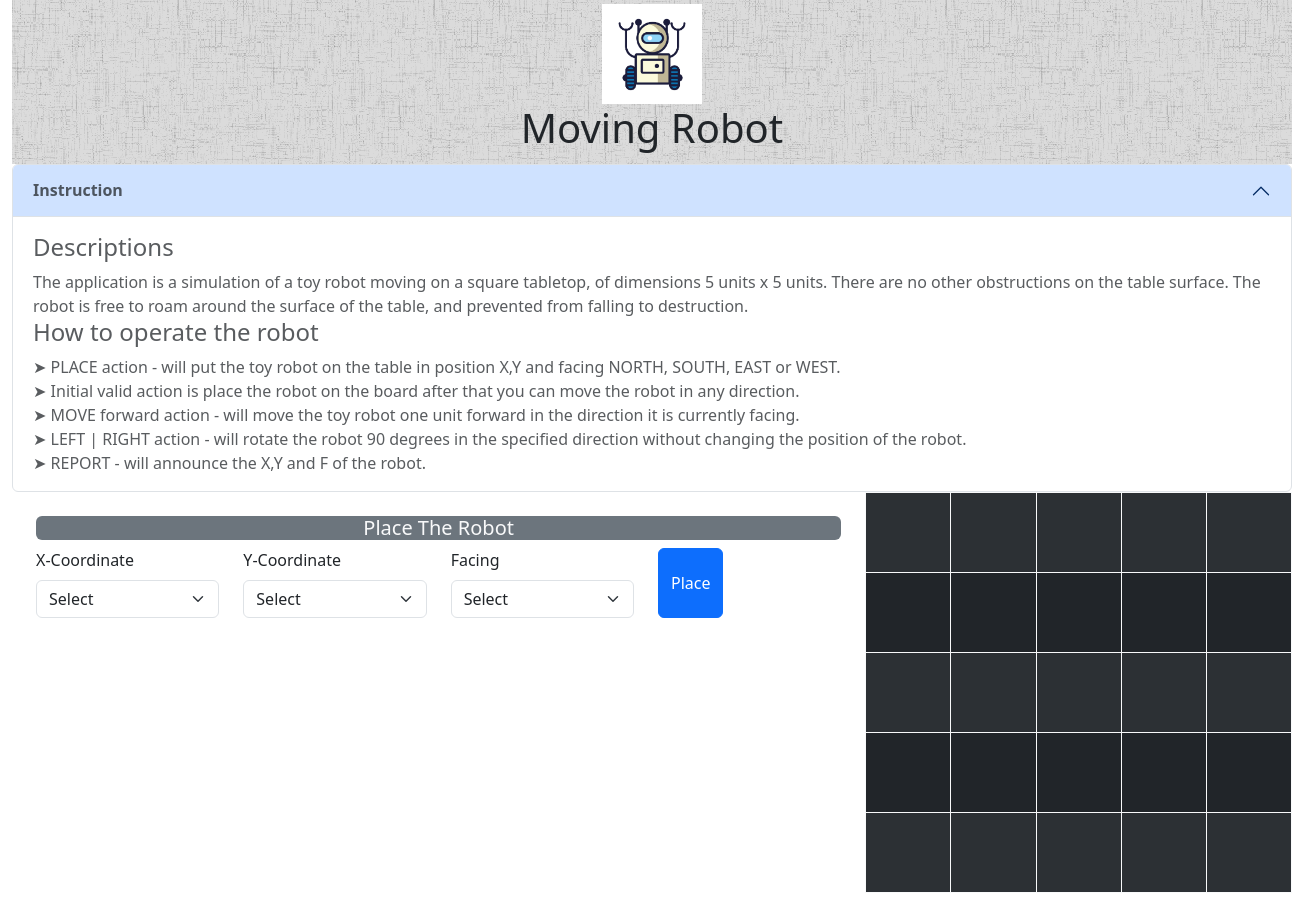
Test: robot get placed at position (2,2) NORTH by Place button
Select "2" in the dropdown with test id "xCoord" at x=128, y=599, box [36,580,219,618]
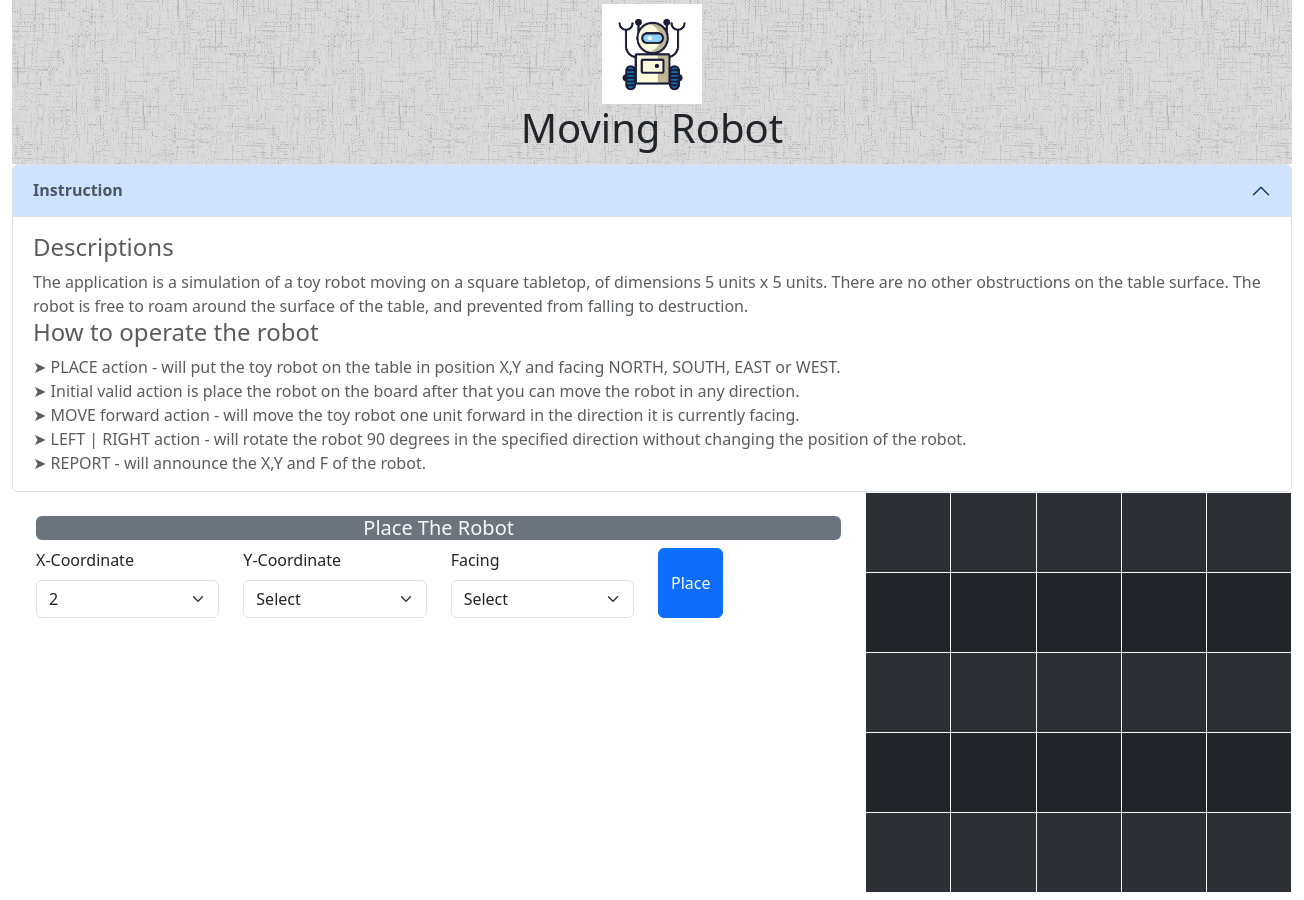
Select "2" in the dropdown with test id "yCoord" at x=335, y=599, box [243,580,427,618]
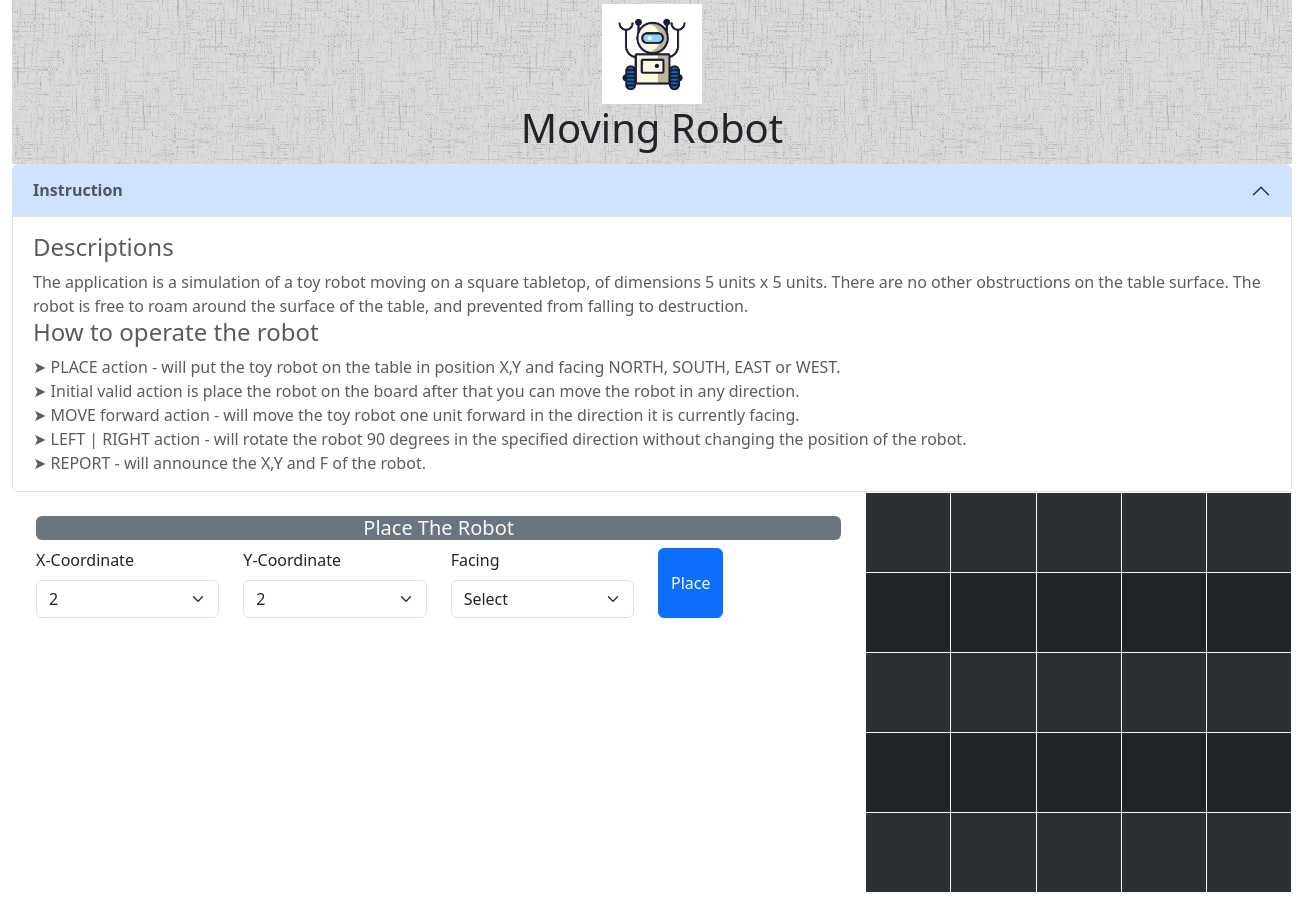
Select "NORTH" in the dropdown with test id "facing" at x=542, y=599, box [451,580,634,618]
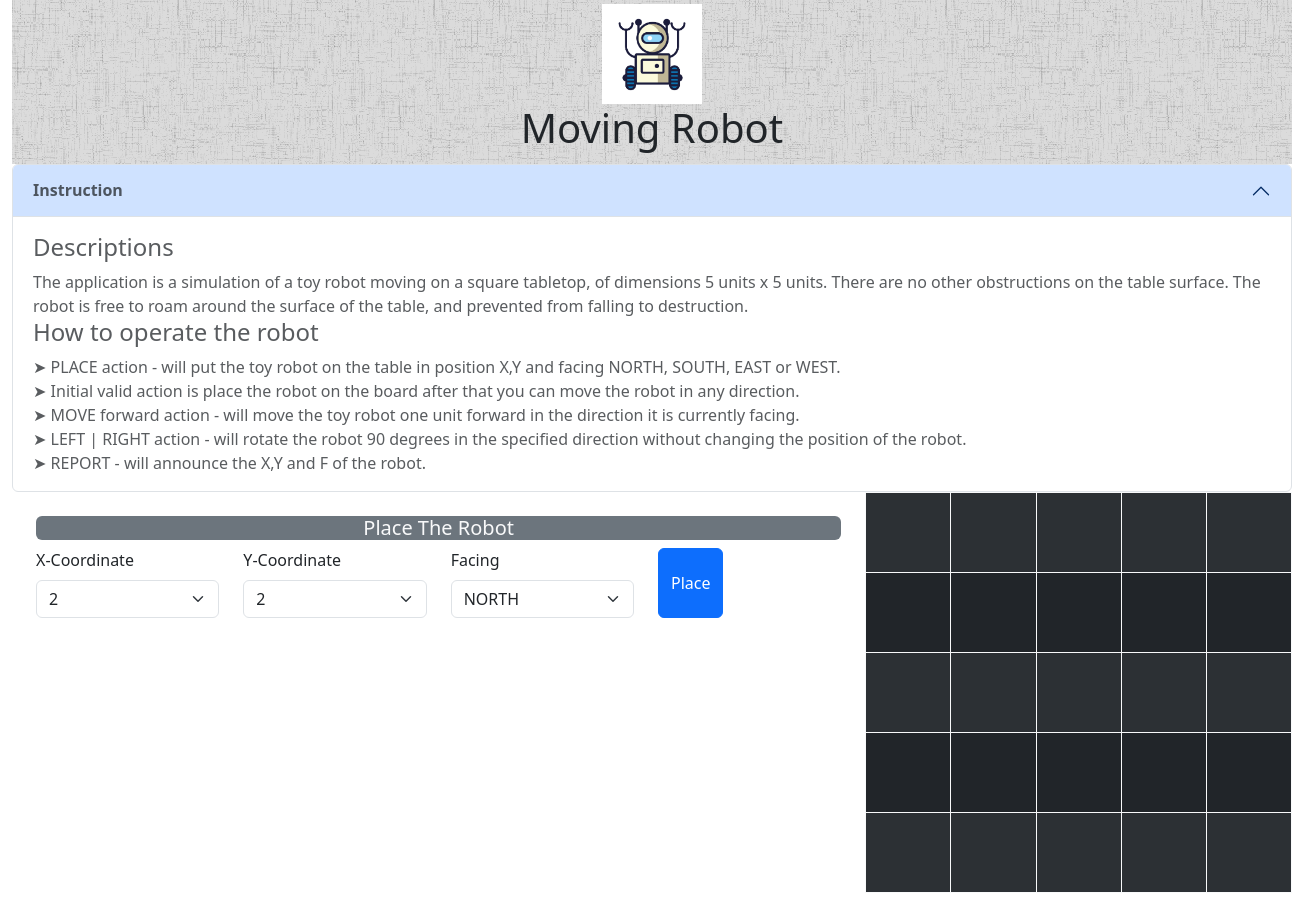
Click the button "Place" at x=691, y=583, box [658,548,724,618]
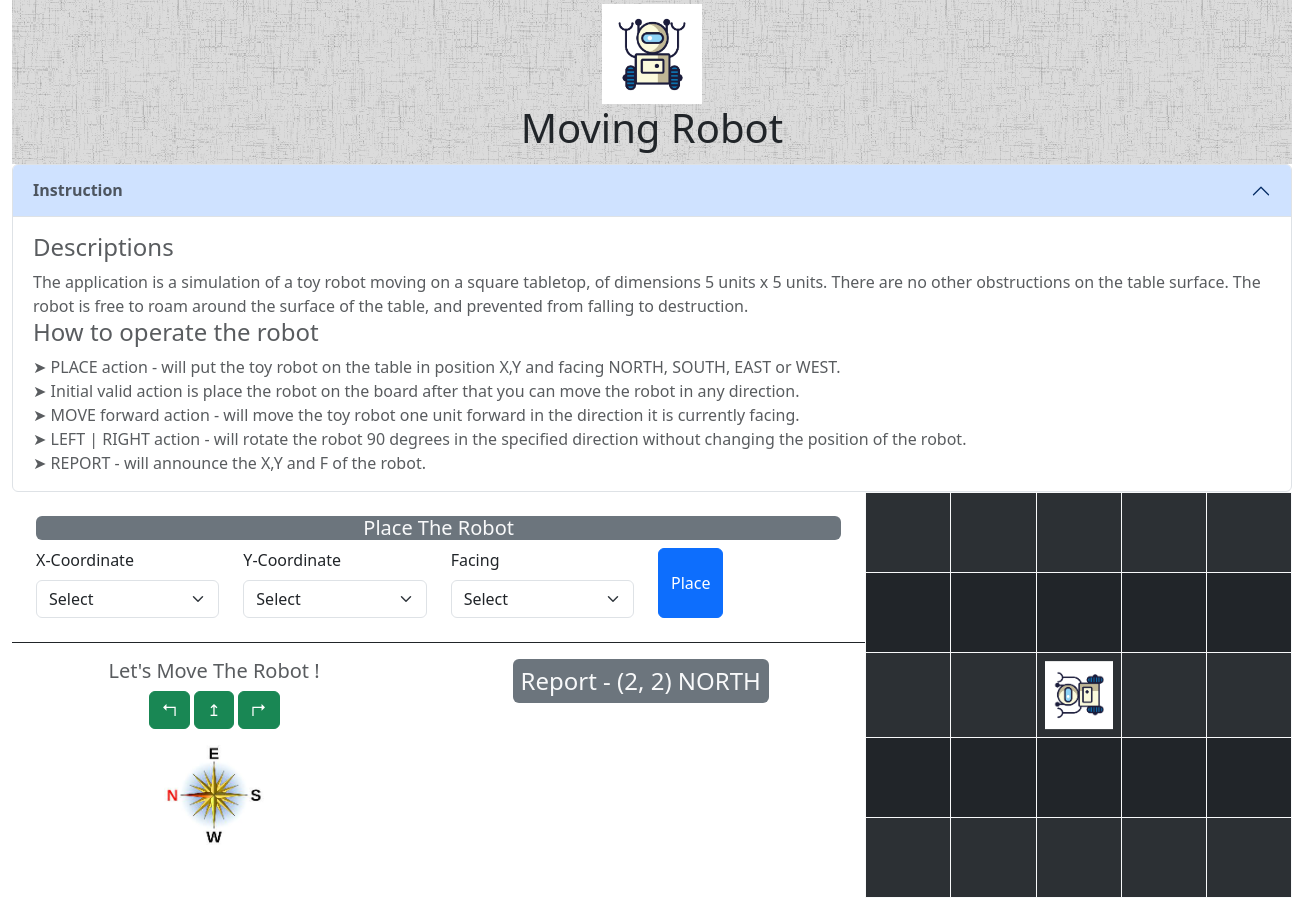
Now the picture with test id "(2,2)NORTH" is shown, box [1045,661,1113,729]
